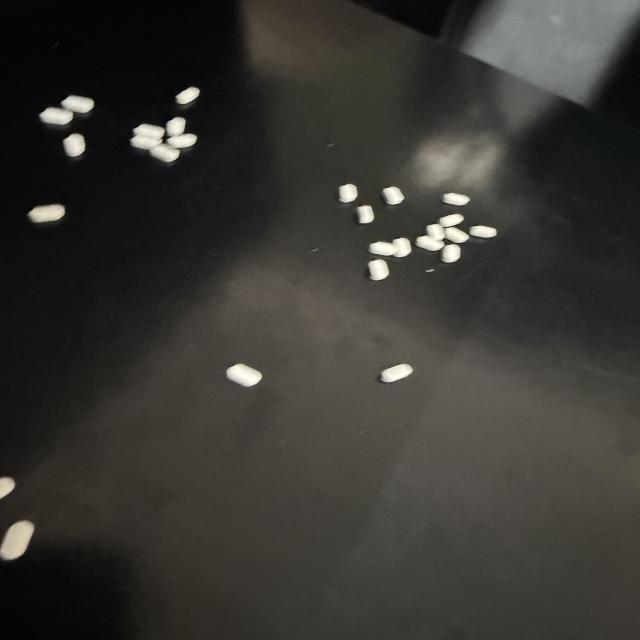pill: (0, 521, 34, 560), (226, 364, 262, 386), (28, 204, 65, 222), (39, 107, 73, 125), (61, 95, 94, 113), (380, 364, 413, 382), (62, 133, 86, 157), (149, 144, 179, 162), (415, 236, 444, 251), (133, 124, 164, 138), (130, 135, 161, 149), (167, 134, 197, 148), (176, 87, 200, 104), (369, 260, 389, 280), (369, 242, 397, 256), (382, 187, 404, 204), (445, 227, 468, 243), (442, 193, 470, 206), (166, 117, 185, 136), (339, 184, 357, 203), (441, 244, 460, 262), (393, 238, 411, 257), (439, 214, 464, 227), (0, 477, 15, 498), (469, 226, 496, 237), (357, 206, 374, 223), (427, 224, 445, 240)
